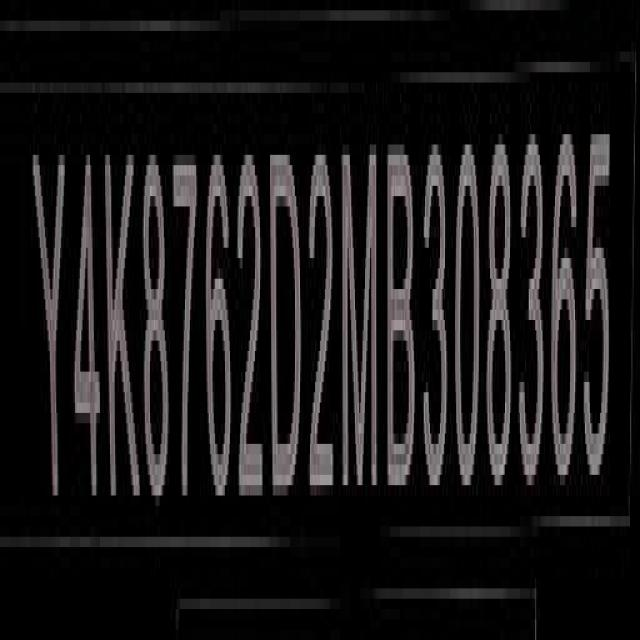0: (457, 140, 483, 494)
2: (308, 146, 338, 504), (236, 145, 265, 509)
3: (422, 139, 450, 496), (520, 134, 547, 493)
4: (73, 162, 101, 506)
5: (586, 120, 616, 489)
6: (205, 144, 233, 511), (552, 123, 578, 491)
7: (176, 142, 201, 509)
8: (482, 142, 514, 497), (144, 146, 172, 512)
B: (388, 138, 419, 496)
D: (270, 145, 304, 510)
K: (106, 143, 140, 511)
M: (342, 142, 379, 497)
Y: (32, 134, 68, 497)
